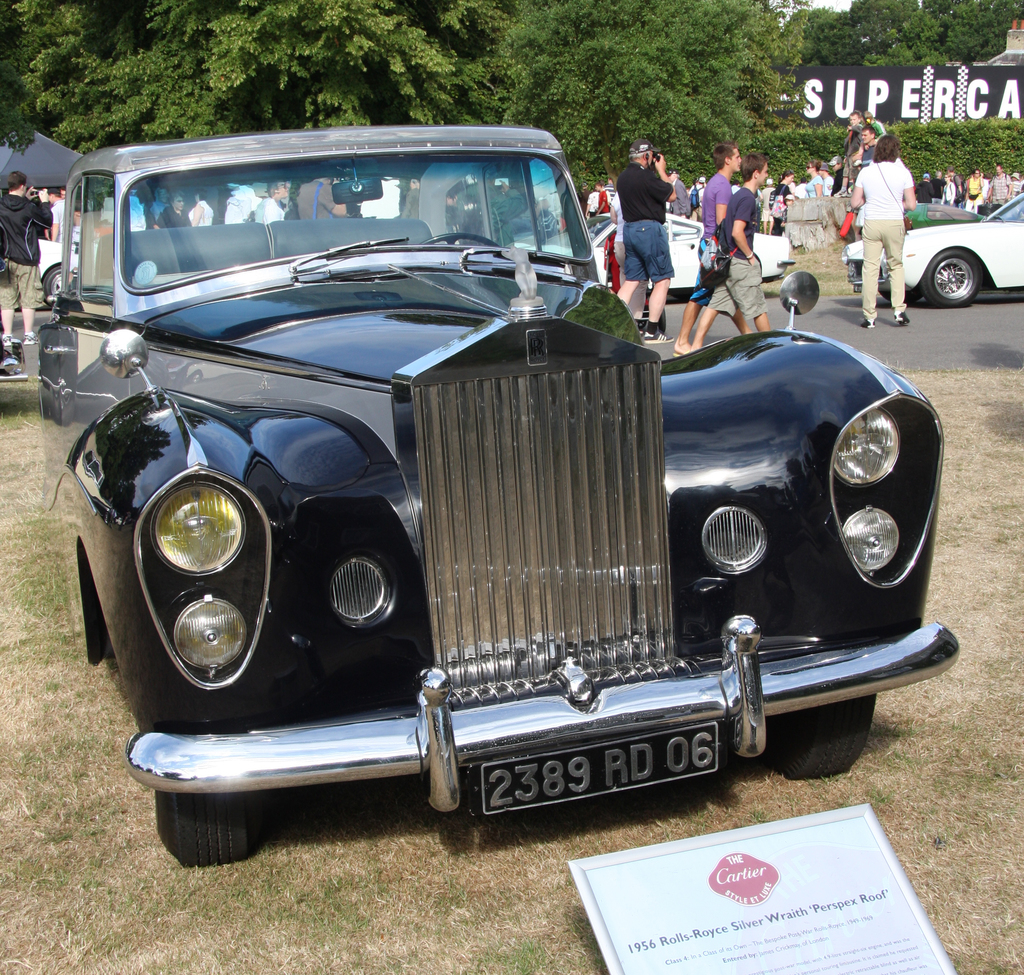mobil: (59, 151, 962, 816)
